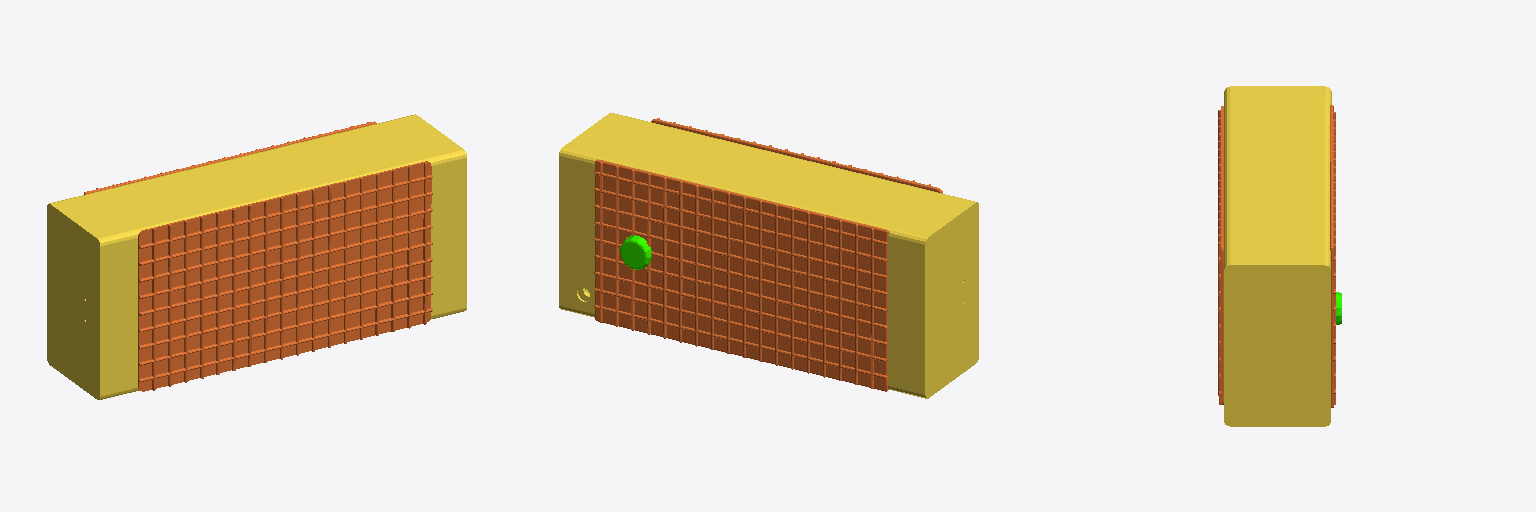
File: PCB_Assembly.obj
3 renders of one model, left to right at view 1: azimuth 30°, elevation 25°; view 2: azimuth 150°, elevation 25°; view 3: azimuth 270°, elevation 25°, orthographic.
Parts seen in each view (by area): view 1: Solid1:6, Solid1:4, Solid1, Solid1:5; view 2: Solid1:5, Solid1:4, Solid1, Solid1:6, Solid1:3; view 3: Solid1:4, Solid1, Solid1:6, Solid1:5.
Part boxes in pixels (x1,y1,x2,y2): Solid1:6: (138, 161, 432, 391); Solid1:4: (55, 118, 466, 399); Solid1: (47, 114, 420, 368); Solid1:5: (84, 121, 376, 194); Solid1:5: (594, 159, 888, 391); Solid1:4: (567, 113, 978, 394); Solid1: (559, 144, 932, 398); Solid1:6: (651, 118, 942, 193); Solid1:3: (620, 235, 651, 269); Solid1:4: (1224, 86, 1315, 426); Solid1: (1316, 86, 1331, 426); Solid1:6: (1218, 106, 1223, 404); Solid1:5: (1330, 105, 1335, 407).
Size of the model in its own units: 138 by 58.4 by 40.46.